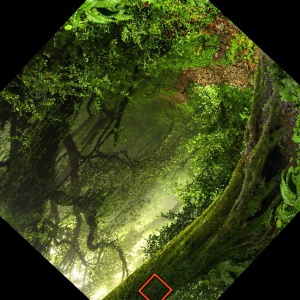square: (136, 272, 173, 299)
